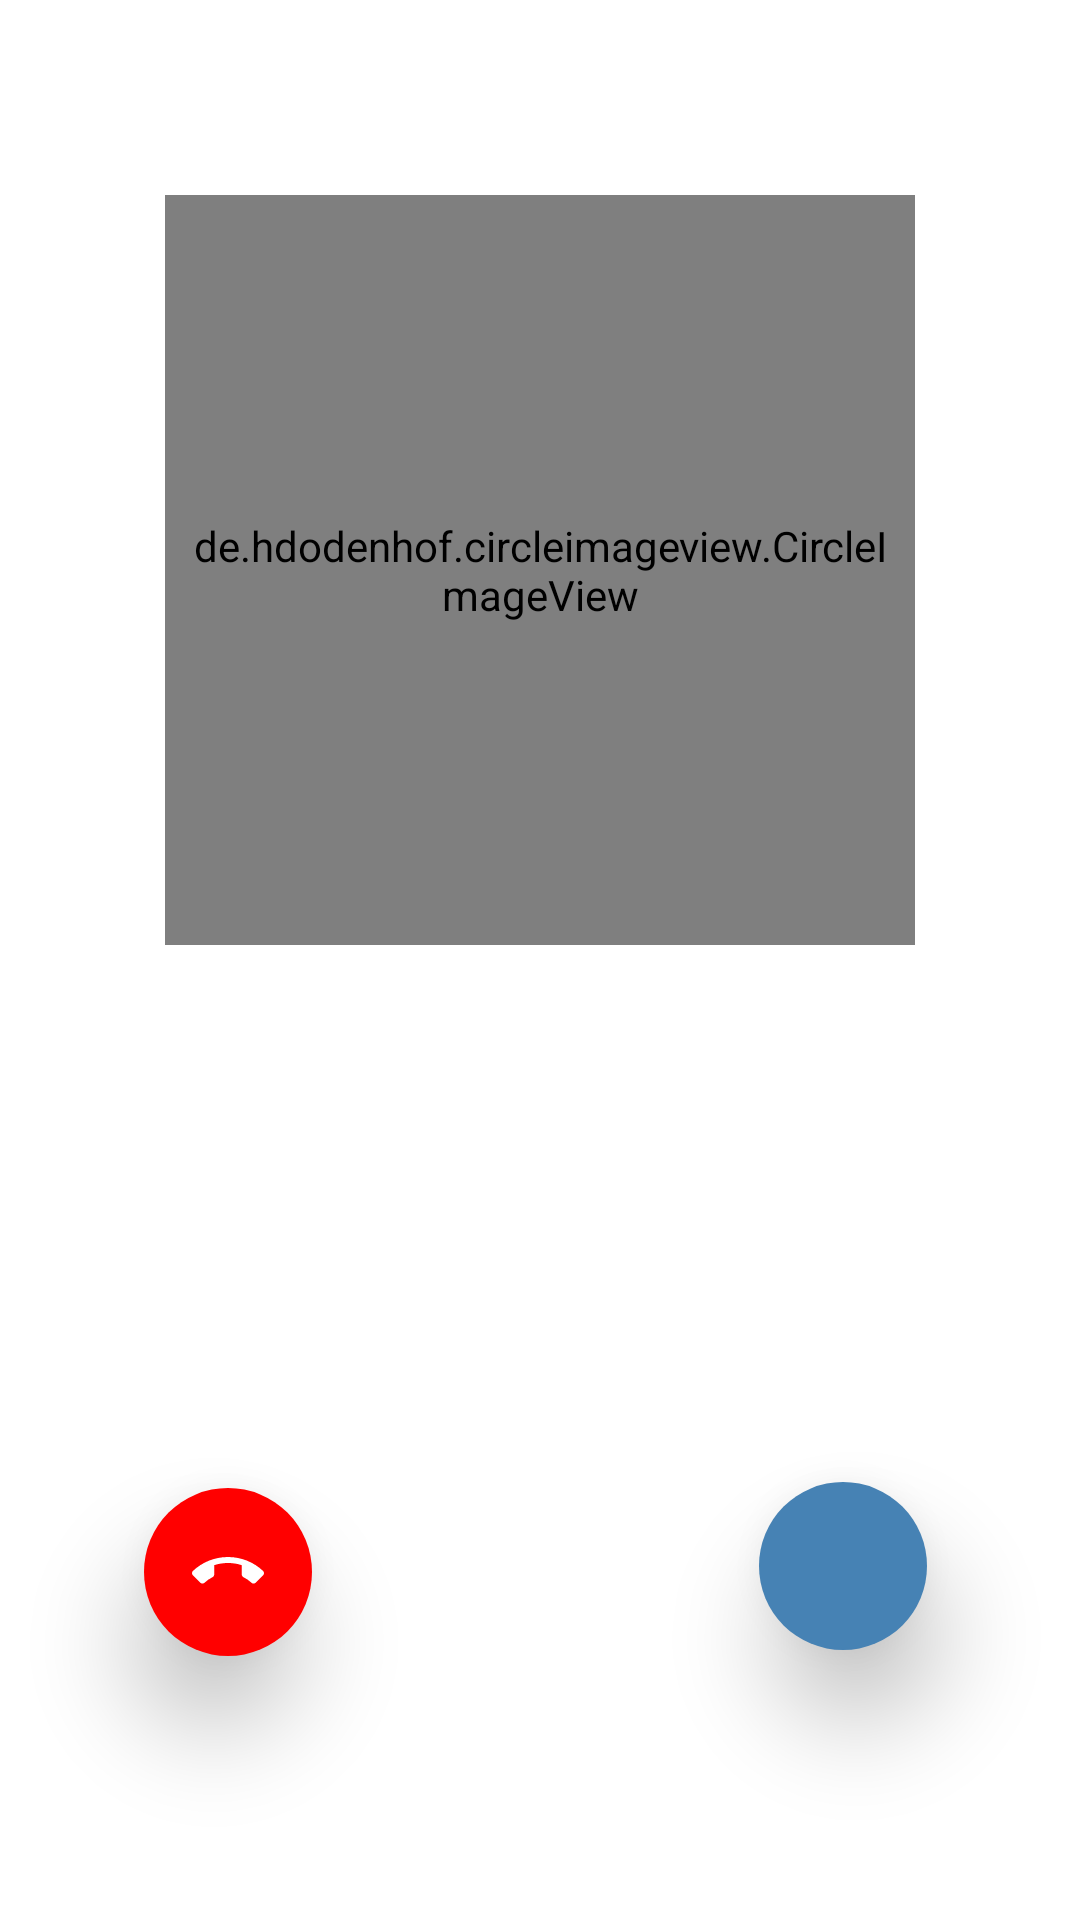

Icon click points for this 1080px x 1920px phone screenshot, format (x=x, y=y):
call end: (x=228, y=1572)
